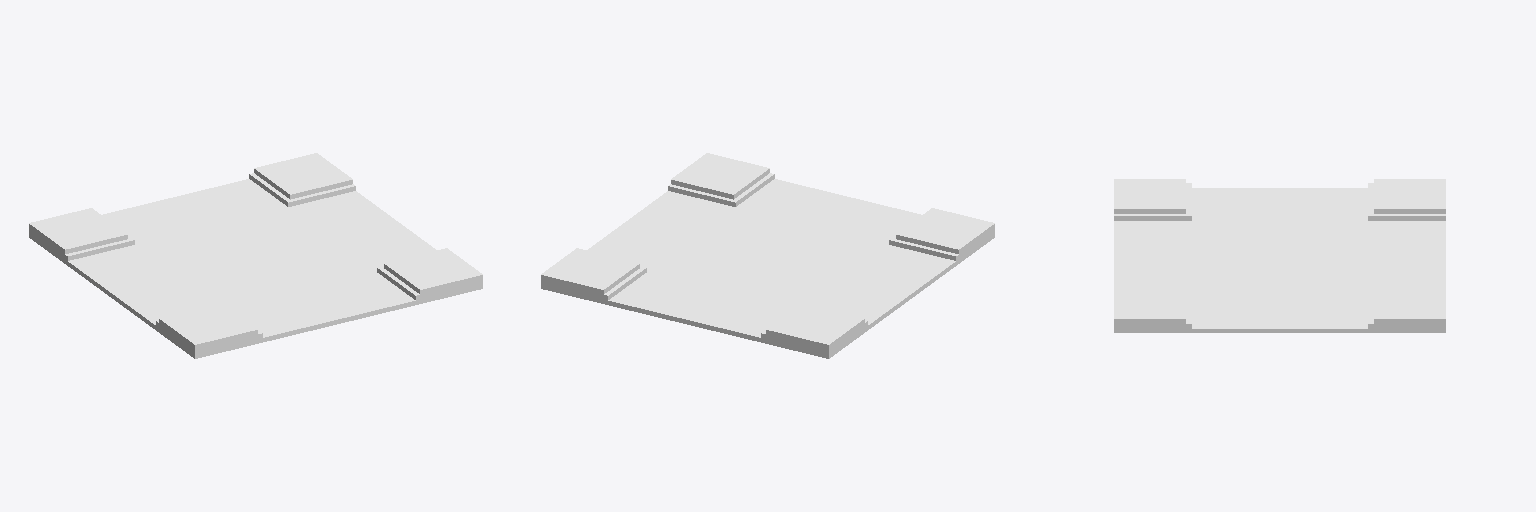
The model's file is road_intersection_4.obj.
The picture shows the model from 3 angles: view 1: azimuth 30°, elevation 25°; view 2: azimuth 150°, elevation 25°; view 3: azimuth 270°, elevation 25°; orthographic projection.
Parts seen in each view (by area): view 1: object 1; view 2: object 1; view 3: object 1.
Boxes of the visible parts, x1=… form: object 1: x1=29, y1=153, x2=482, y2=358; object 1: x1=541, y1=153, x2=994, y2=358; object 1: x1=1114, y1=179, x2=1445, y2=332.
Bounding box in the file's own units: 6.4 × 0.3 × 6.4.